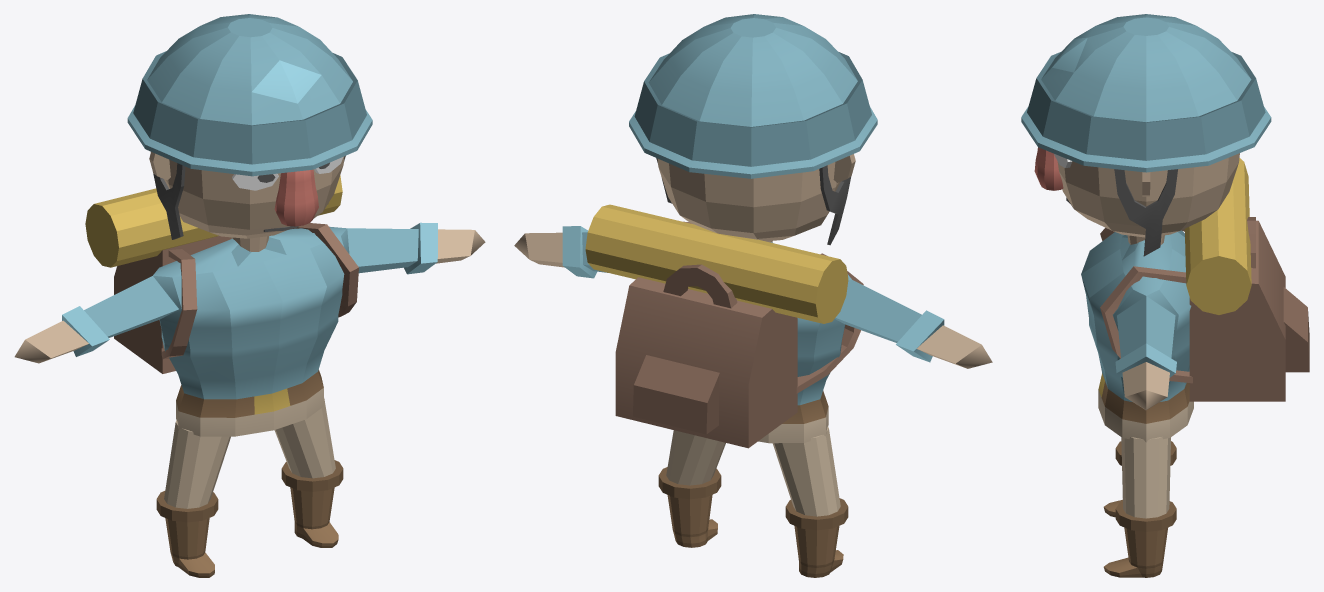
The model's file is Soldier Gunner.fbx.
3 renders of one model, left to right at view 1: azimuth 30°, elevation 25°; view 2: azimuth 150°, elevation 25°; view 3: azimuth 270°, elevation 25°, orthographic. The views are drawn at different scales.
Parts seen in each view (by area): view 1: pSphere2; view 2: pSphere2; view 3: pSphere2.
Boxes of the visible parts, <box> form: pSphere2: <box>14,14,485,577</box>; pSphere2: <box>514,14,992,577</box>; pSphere2: <box>1021,14,1309,577</box>.
Bounding box in the file's own units: 100 × 106 × 53.75.
